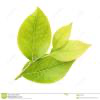Blueberry leaf: (17, 4, 49, 60), (51, 39, 94, 62), (48, 14, 73, 53)
